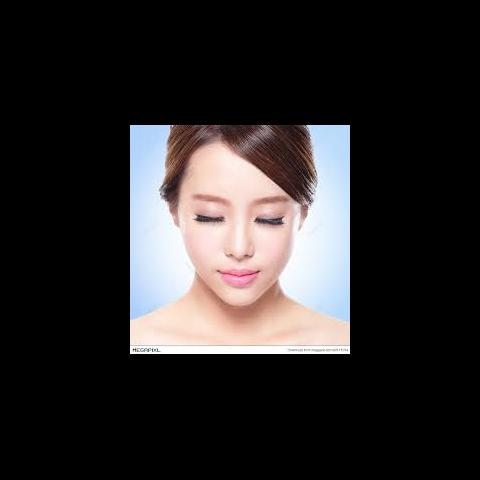closed: (186, 188, 294, 234)
